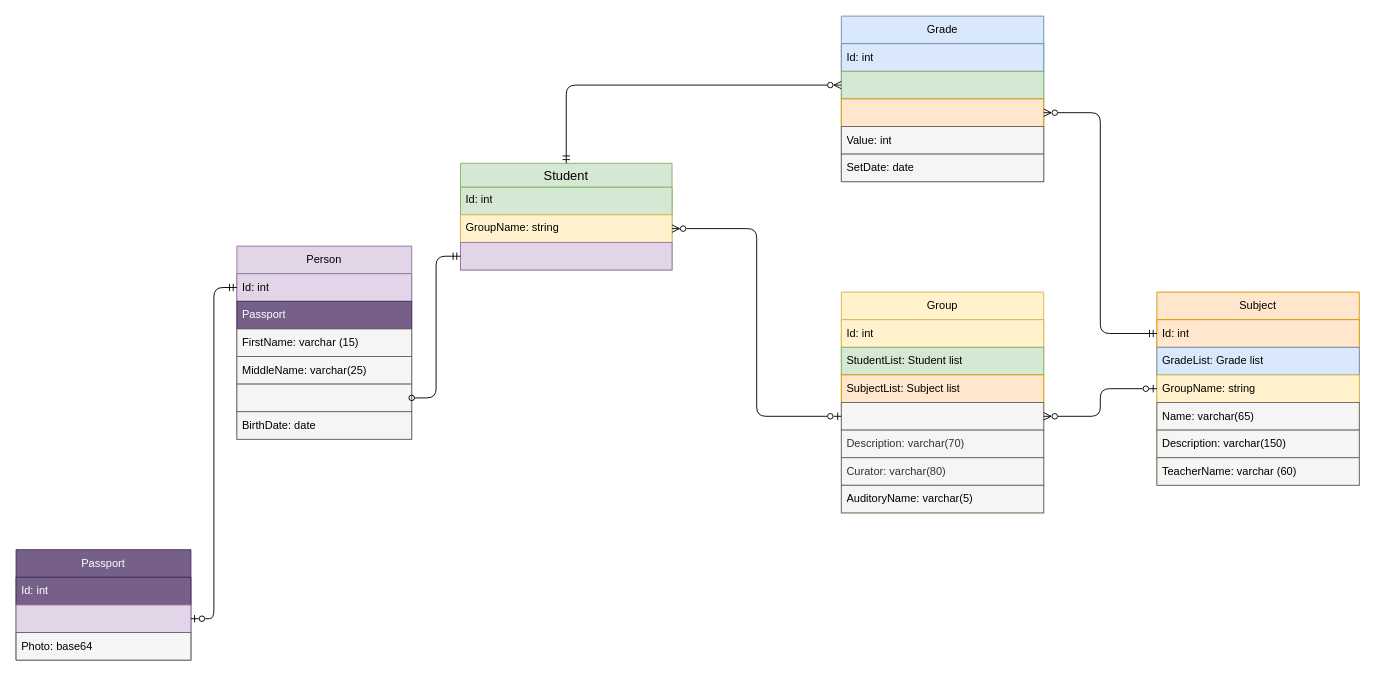
Some shapes in this 1375 by 676 pixel diagram are drawn without their labels. The centre of each missing label's shape, as x and y in pixels:
LastName: varchar (20): the point at 324,397
Name: varchar(10): the point at 942,416
PersonId: int: the point at 103,618
PersonLastName: string: the point at 566,256
StudentId: int: the point at 942,84
SubjectId: int: the point at 942,112
